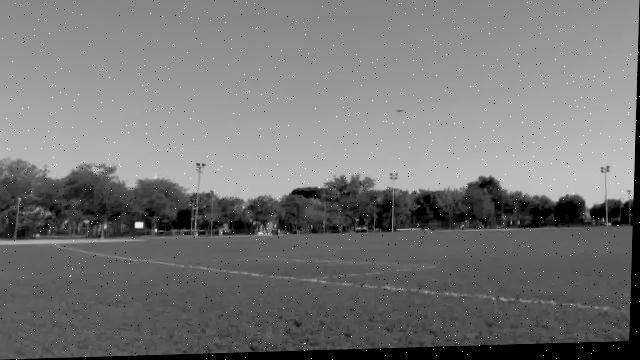drone: (391, 106, 410, 115)
